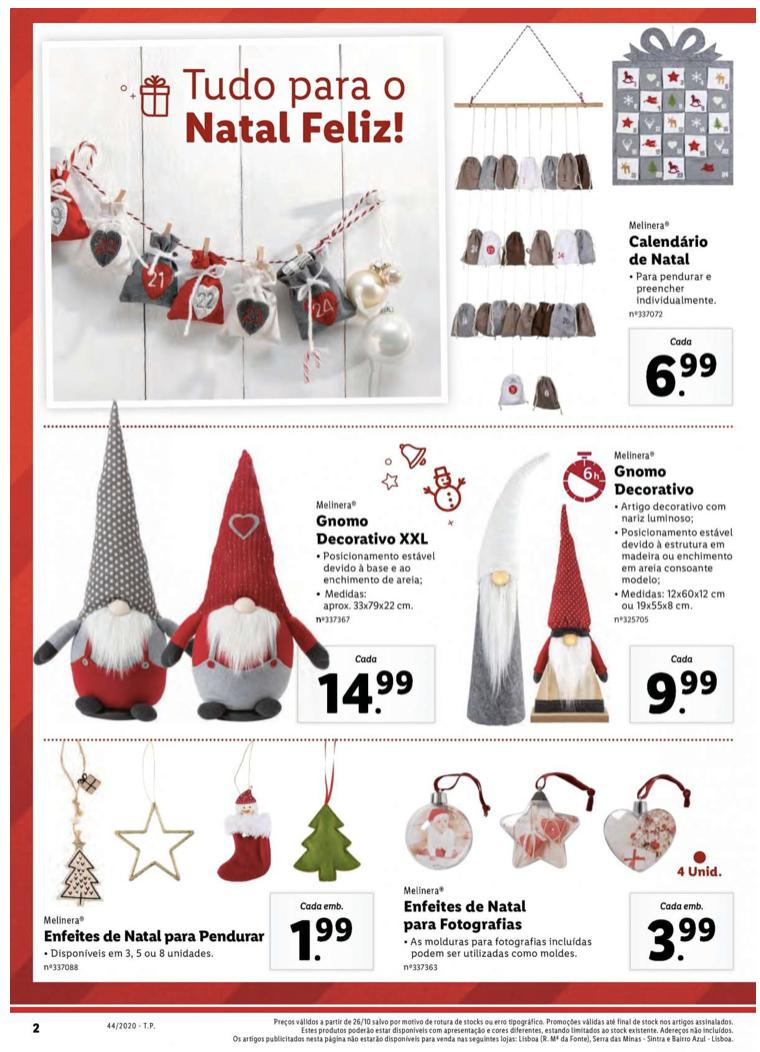name: (43, 925, 269, 948), (316, 510, 433, 549), (404, 899, 528, 935), (612, 461, 699, 501), (625, 234, 711, 271)
price: (316, 666, 415, 722), (641, 667, 722, 719), (641, 352, 724, 402), (285, 912, 357, 967), (644, 914, 720, 961)
product: (37, 34, 742, 414), (41, 426, 442, 728), (450, 434, 742, 726), (382, 753, 739, 978), (38, 748, 382, 978)
